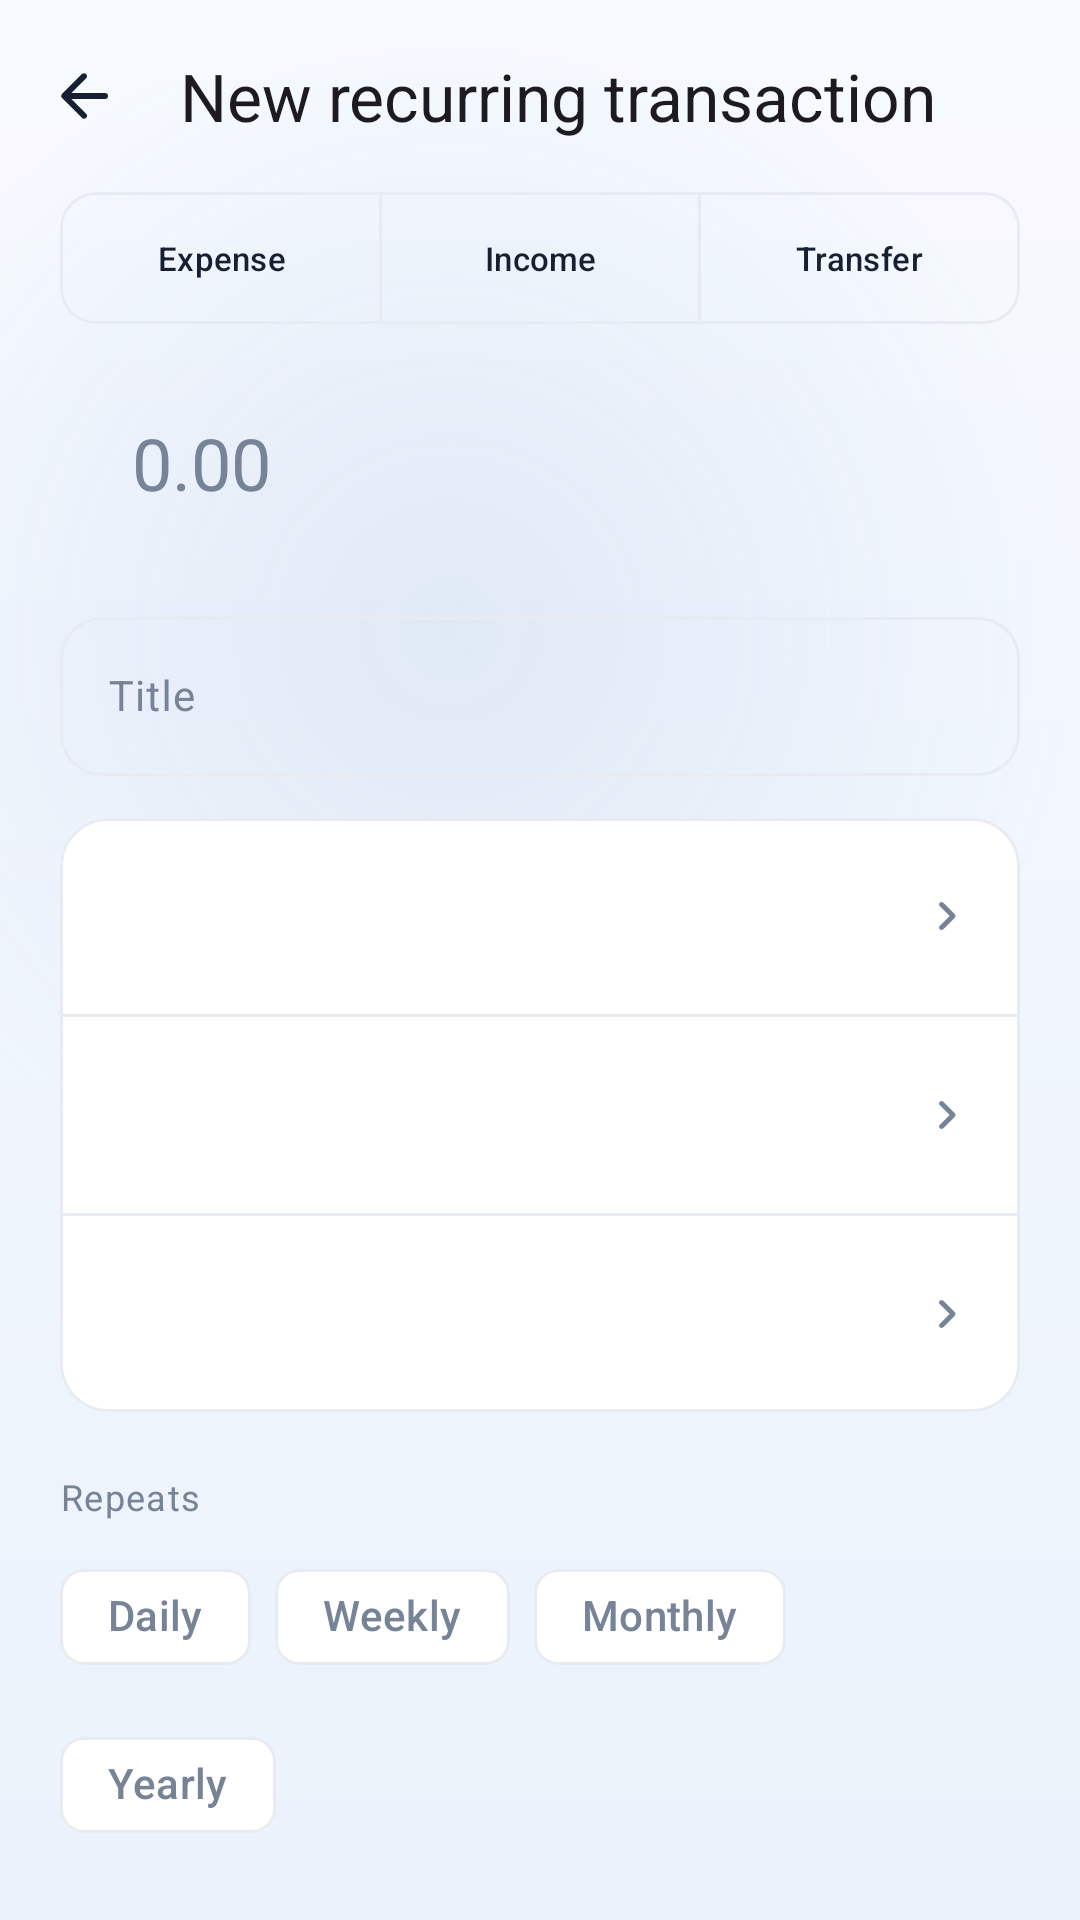

Named icons in this screenshot (1080 x 1920) and their centers, [x,y]:
chevron right: [947,916], [947,1115], [947,1314]
